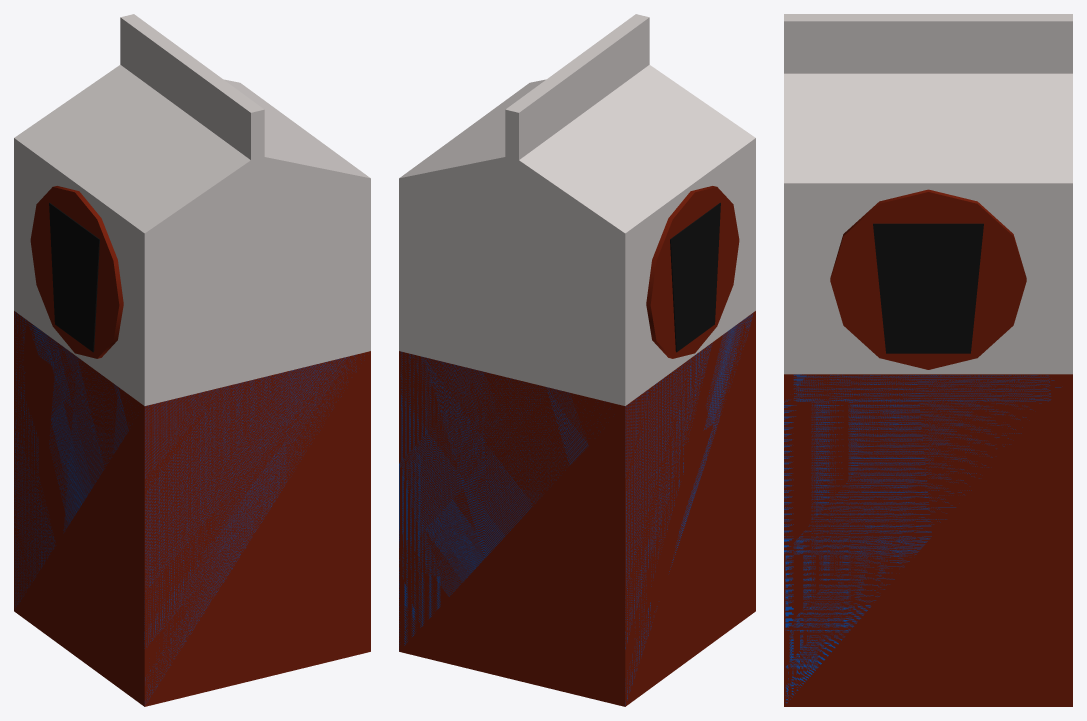
The model's file is Cartons.FBX.
3 renders of one model, left to right at view 1: azimuth 30°, elevation 25°; view 2: azimuth 150°, elevation 25°; view 3: azimuth 270°, elevation 25°, orthographic. The views are drawn at different scales.
Parts seen in each view (by area): view 1: Box001, Box002; view 2: Box001, Box002; view 3: Box001, Box002.
Boxes of the visible parts, x1,y1,x2,y2 form: Box001: (14, 14, 370, 706); Box002: (14, 15, 367, 703); Box001: (399, 14, 755, 706); Box002: (399, 21, 752, 705); Box001: (784, 14, 1072, 706); Box002: (784, 14, 1072, 703).
Size of the model in its own units: 26.17 by 25 by 60.
